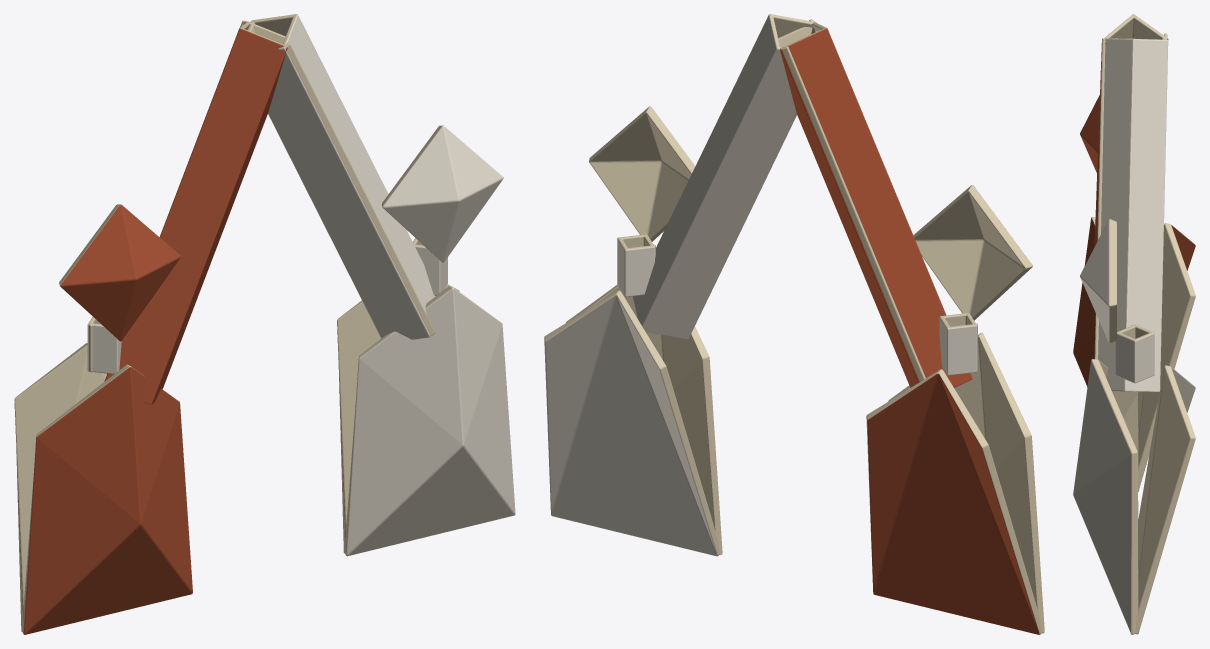
The model's file is achievement-reactions.glb.
The picture shows the model from 3 angles, left to right: view 1: azimuth 30°, elevation 25°; view 2: azimuth 150°, elevation 25°; view 3: azimuth 270°, elevation 25°; orthographic projection. The views are drawn at different scales.
Parts seen in each view (by area): view 1: achievement-reactions; view 2: achievement-reactions; view 3: achievement-reactions.
Part boxes in pixels (x1,y1,x2,y2): achievement-reactions: (14, 14, 515, 634); achievement-reactions: (544, 14, 1044, 634); achievement-reactions: (1073, 14, 1195, 634).
Size of the model in its own units: 1.25 by 1.34 by 0.2989.
